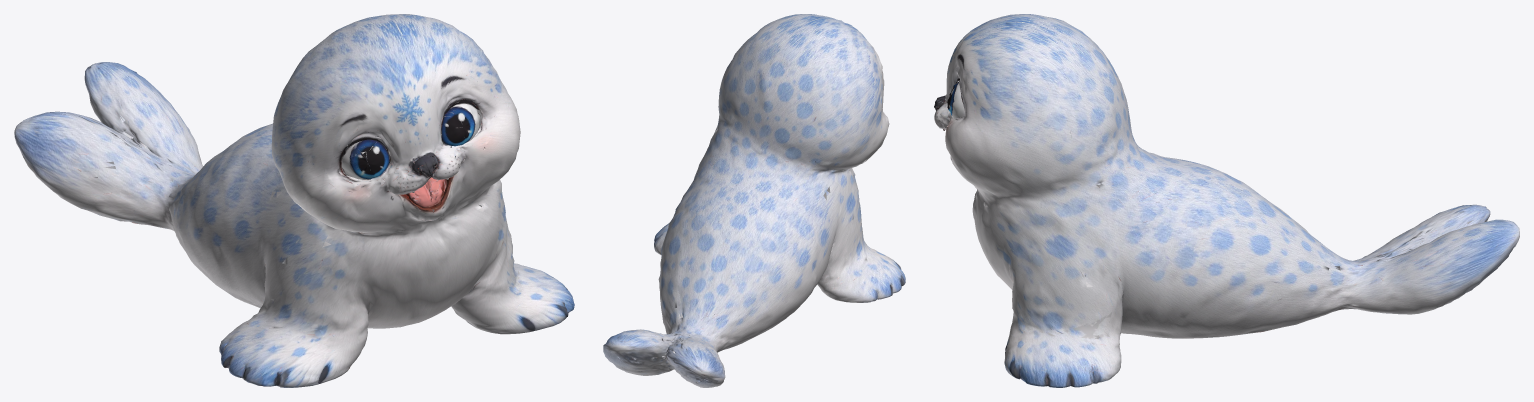
The model's file is snowseal.glb.
The picture shows the model from 3 angles, left to right: view 1: azimuth 30°, elevation 25°; view 2: azimuth 150°, elevation 25°; view 3: azimuth 270°, elevation 25°; orthographic projection. The views are drawn at different scales.
Visible parts, largest first — view 1: snowseal; view 2: snowseal; view 3: snowseal.
Part boxes in pixels (x1,y1,x2,y2): snowseal: (14, 14, 574, 387); snowseal: (603, 14, 905, 387); snowseal: (934, 14, 1519, 387).
Size of the model in its own units: 1.05 by 1 by 1.84.
Materials: 1 (1 with a texture image).
